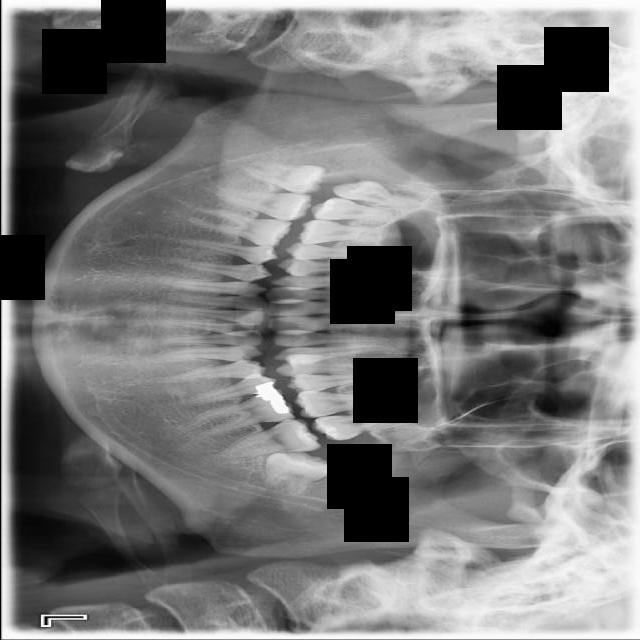3M ESPE Implant: (330, 174, 412, 211)
52: (247, 384, 296, 433), (239, 371, 277, 398)
73: (25, 614, 36, 624)
BioHorizons Implant: (310, 406, 427, 443)
Biomet 3i Implant: (256, 441, 334, 507)
Blue Sky Bio Implant: (215, 417, 321, 460)
Caries: (310, 197, 407, 221)
Implant: (215, 187, 312, 222)
Keystone Dental Implant: (241, 160, 325, 195)
